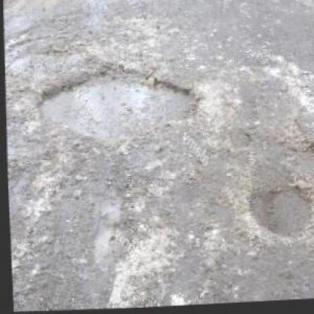Hueco: (32, 56, 204, 151), (246, 182, 313, 243), (84, 191, 134, 266)
